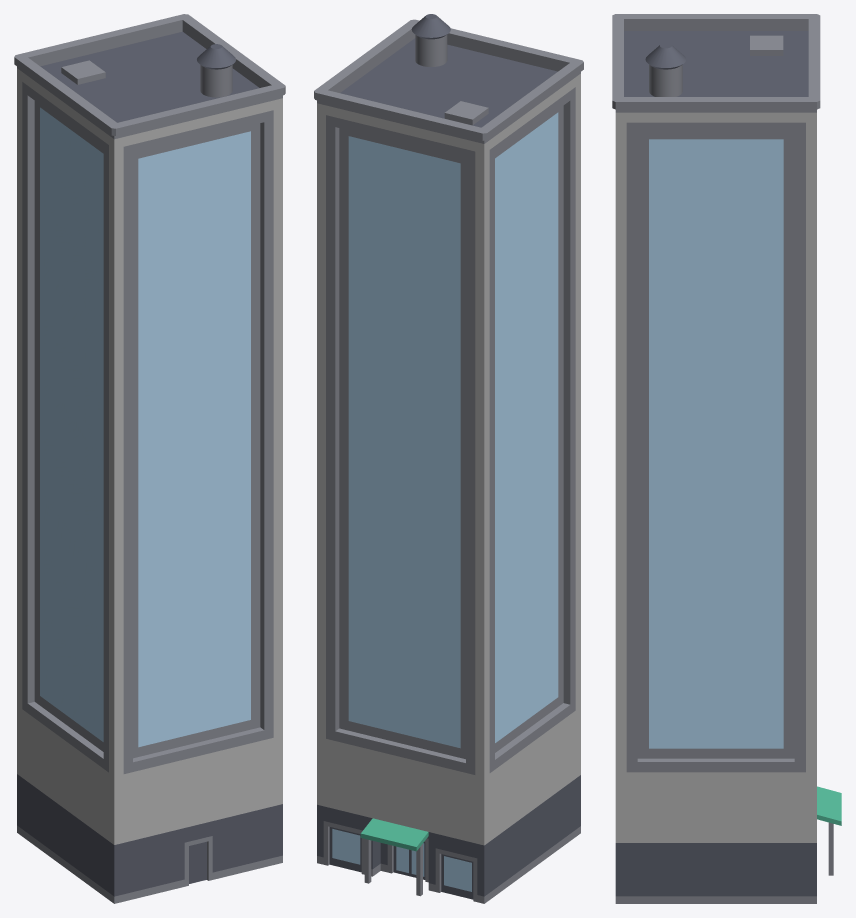
Rendered from Skyscraper-BwEXdOoUSO.glb.
3 renders of one model, left to right at view 1: azimuth 30°, elevation 25°; view 2: azimuth 150°, elevation 25°; view 3: azimuth 270°, elevation 25°, orthographic. The views are drawn at different scales.
Visible parts, largest first — view 1: skyscraperD; view 2: skyscraperD; view 3: skyscraperD.
Boxes of the visible parts, left/top/right/bottom form: skyscraperD: left=14, top=14, right=285, bottom=903; skyscraperD: left=314, top=14, right=583, bottom=903; skyscraperD: left=612, top=14, right=841, bottom=903.
Size of the model in its own units: 1.24 by 5.5 by 1.37.
